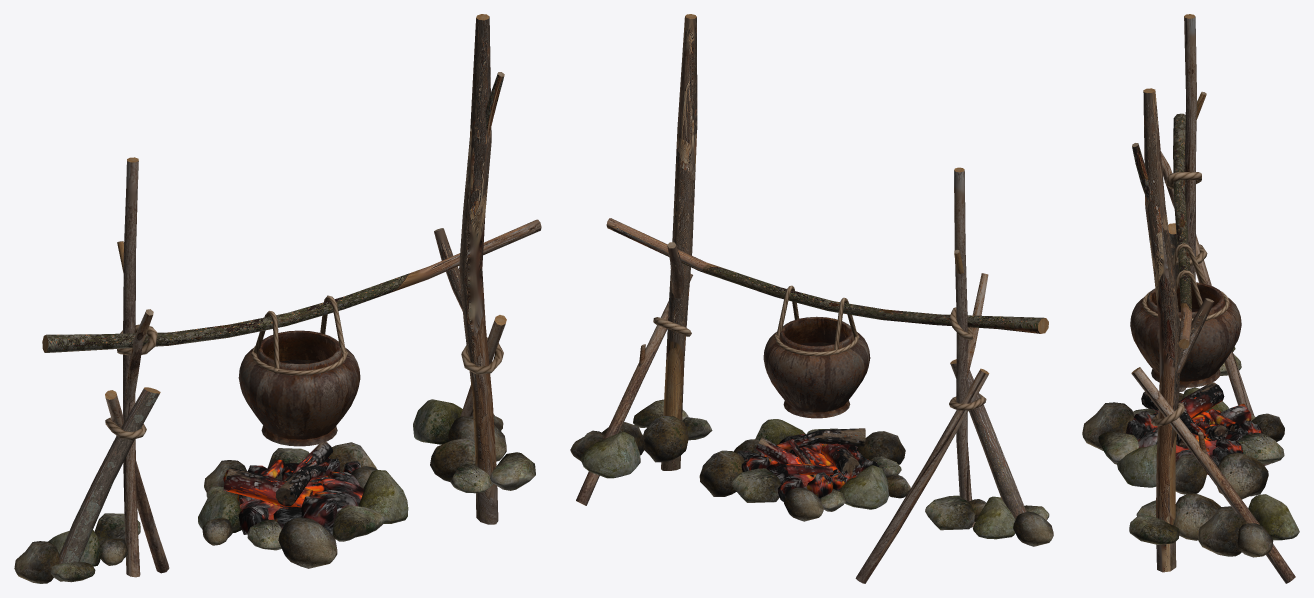
The model's file is village_bonfire.fbx.
The picture shows the model from 3 angles, left to right: view 1: azimuth 30°, elevation 25°; view 2: azimuth 150°, elevation 25°; view 3: azimuth 270°, elevation 25°; orthographic projection. The views are drawn at different scales.
Visible parts, largest first — view 1: village_bonfire; view 2: village_bonfire; view 3: village_bonfire.
Boxes of the visible parts, x1,y1,x2,y2 form: village_bonfire: [14, 14, 541, 583]; village_bonfire: [570, 14, 1053, 583]; village_bonfire: [1082, 14, 1299, 583].
Bounding box in the file's own units: 267 × 266 × 106.
